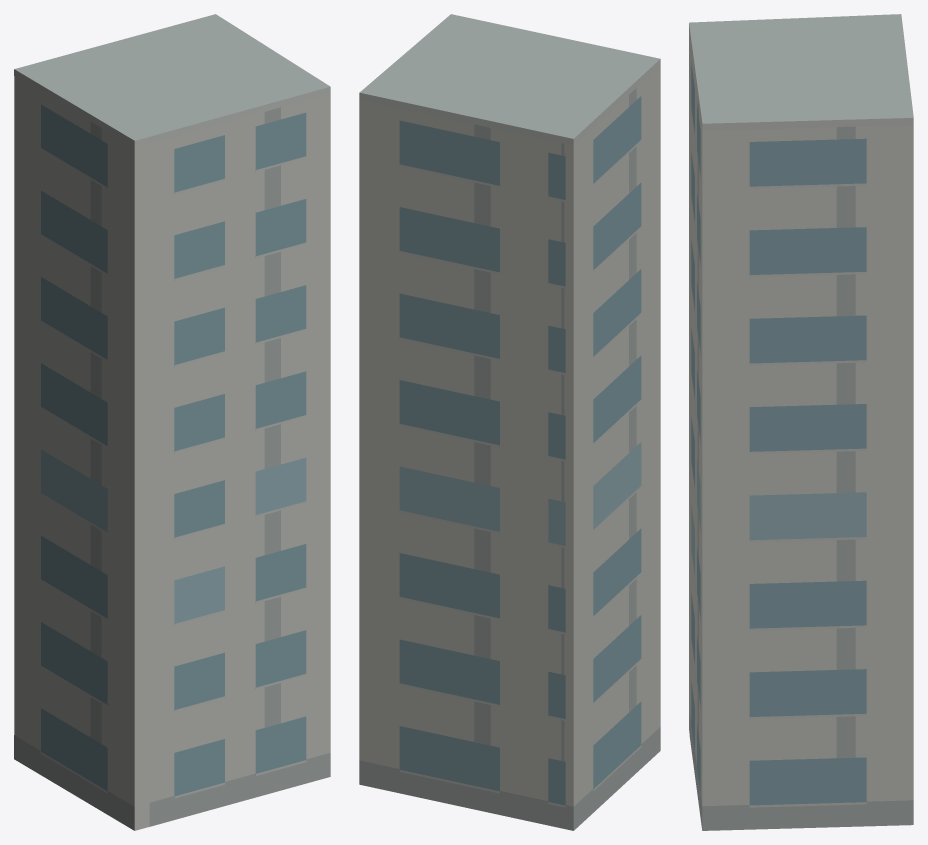
The model's file is survey-upis-32760727.glb.
3 renders of one model, left to right at view 1: azimuth 30°, elevation 25°; view 2: azimuth 150°, elevation 25°; view 3: azimuth 270°, elevation 25°, orthographic. The views are drawn at different scales.
Visible parts, largest first — view 1: survey-upis-32760727.tmp; view 2: survey-upis-32760727.tmp; view 3: survey-upis-32760727.tmp.
Boxes of the visible parts, x1,y1,x2,y2 form: survey-upis-32760727.tmp: [14, 14, 330, 830]; survey-upis-32760727.tmp: [359, 14, 660, 830]; survey-upis-32760727.tmp: [689, 14, 913, 830].
Bounding box in the file's own units: 8.13 × 24.4 × 7.04.
